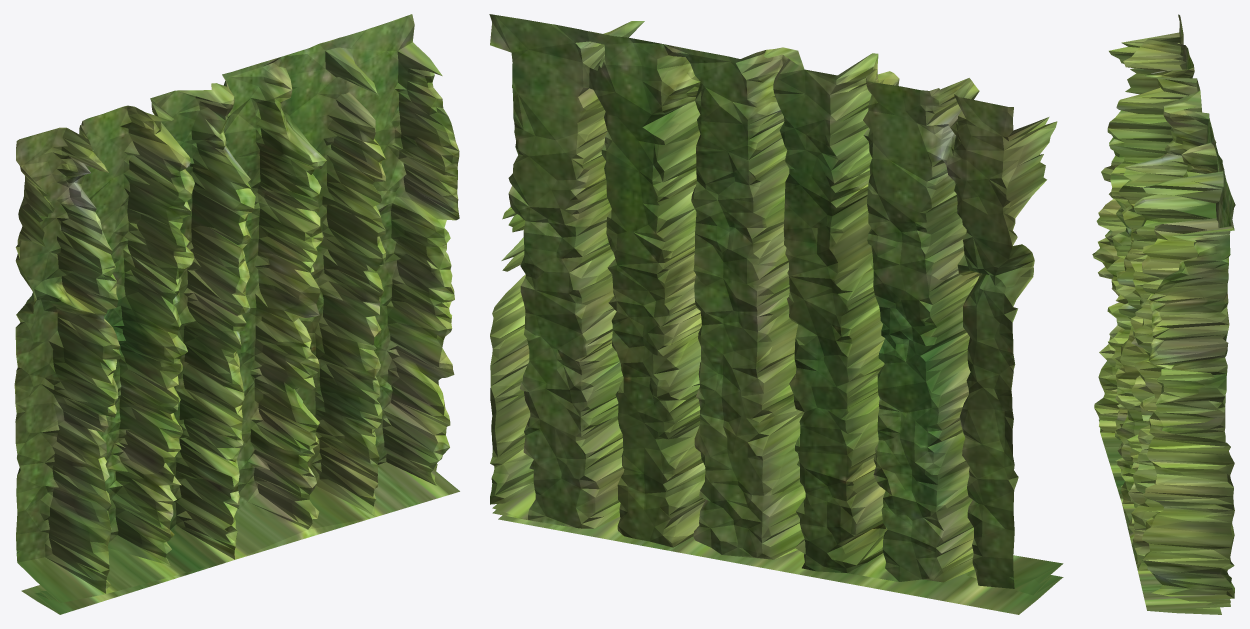
The model's file is map_0_20.obj.
3 views of the same model, side by side, from view 1: azimuth 30°, elevation 25°; view 2: azimuth 150°, elevation 25°; view 3: azimuth 270°, elevation 25° (orthographic). The views are drawn at different scales.
Visible parts, largest first — view 1: grp1; view 2: grp1; view 3: grp1.
Boxes of the visible parts, x1,y1,x2,y2 form: grp1: (14,14,459,614); grp1: (489,14,1063,614); grp1: (1092,14,1235,614).
Bounding box in the file's own units: 10 × 10 × 3.17.
1 material, 1 textured.
